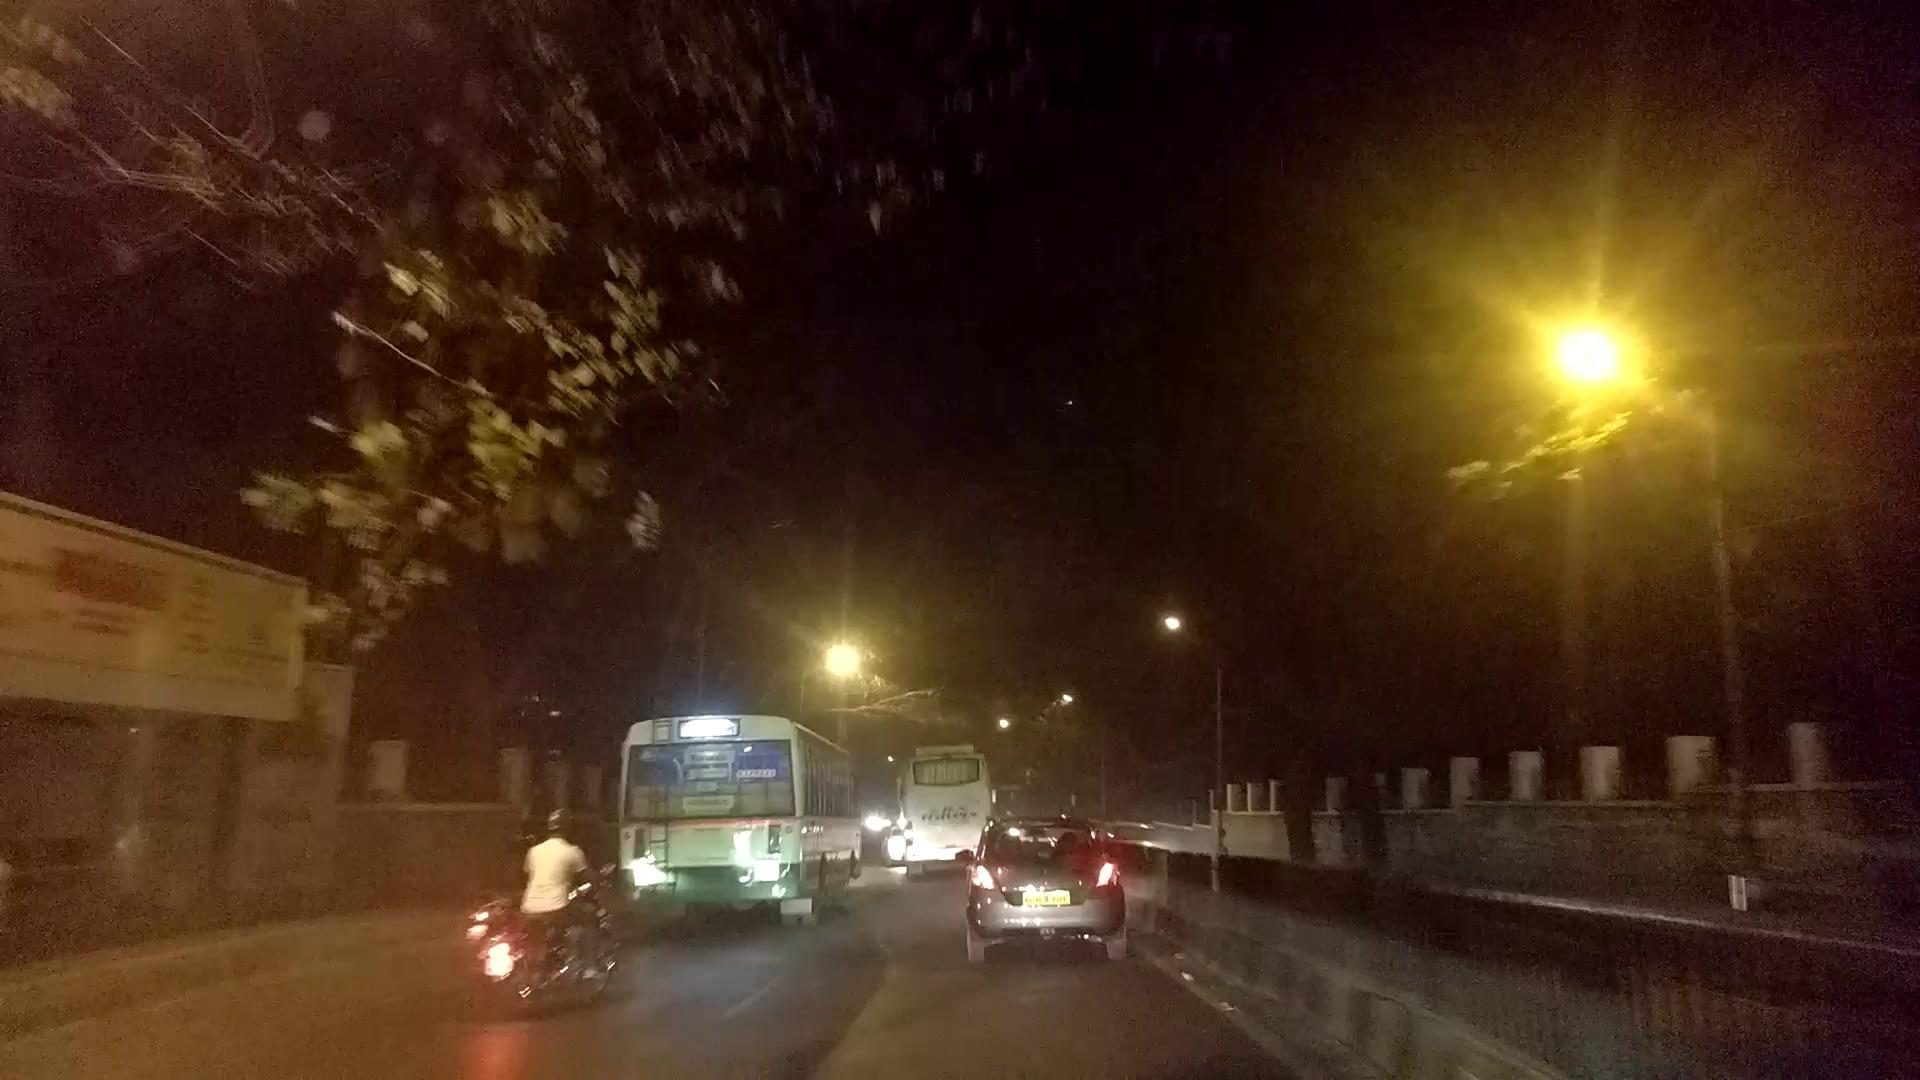on: (1510, 193, 1718, 587)
